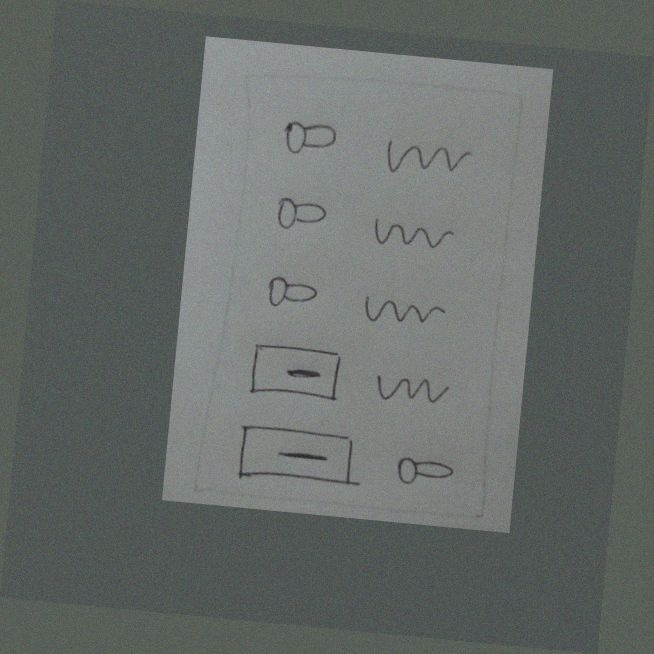button: (232, 419, 369, 495), (241, 339, 352, 411)
switch: (389, 444, 460, 498), (278, 115, 346, 166), (269, 191, 333, 243), (261, 269, 325, 317)
text: (364, 361, 459, 419), (365, 210, 461, 259), (356, 289, 454, 337), (379, 133, 475, 181)
